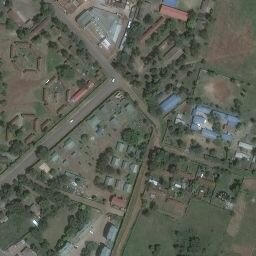tree: (57, 65, 74, 80), (35, 145, 49, 160), (121, 128, 137, 141), (142, 13, 154, 25), (37, 217, 48, 229), (39, 29, 51, 39), (16, 29, 26, 39), (30, 34, 41, 43), (167, 164, 177, 173), (131, 46, 140, 56), (159, 67, 168, 77), (40, 239, 49, 248), (199, 29, 208, 38), (150, 32, 159, 41), (131, 79, 141, 87), (141, 208, 150, 216), (177, 139, 185, 147), (48, 41, 57, 48), (60, 49, 69, 56), (15, 129, 24, 136), (76, 79, 85, 86), (81, 134, 89, 141), (49, 168, 57, 175), (22, 189, 30, 196), (76, 49, 83, 56), (209, 149, 217, 155), (194, 97, 201, 103), (186, 70, 193, 76), (91, 195, 97, 200), (144, 74, 150, 79)
